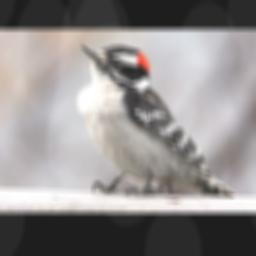Woodpecker: (75, 45, 234, 199)
